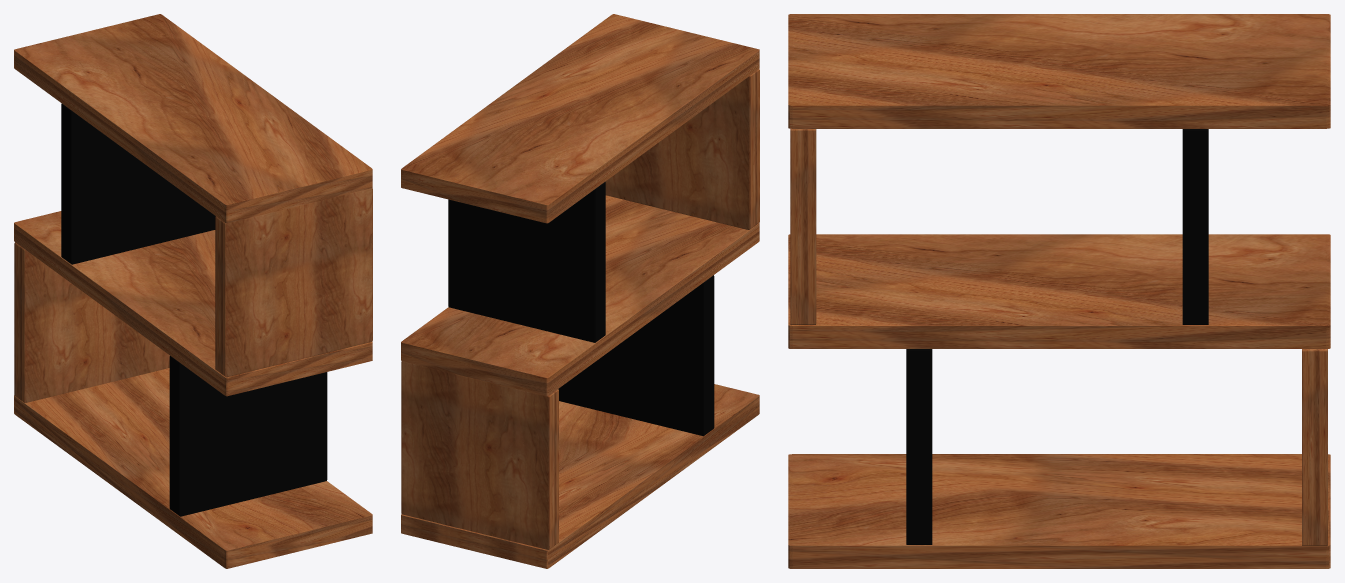
File: tableShelf.glb
The picture shows the model from 3 angles, left to right: view 1: azimuth 30°, elevation 25°; view 2: azimuth 150°, elevation 25°; view 3: azimuth 270°, elevation 25°; orthographic projection. The views are drawn at different scales.
Parts seen in each view (by area): view 1: Cube.006, Cube.001, Cube, Cube.003, Cube.005, Cube.004, Cube.002; view 2: Cube.006, Cube.004, Cube.005, Cube.002, Cube, Cube.003, Cube.001; view 3: Cube.006, Cube.005, Cube, Cube.001, Cube.003, Cube.002, Cube.004.
Boxes of the visible parts, <box> form: Cube.006: <box>14,14,372,223</box>; Cube.001: <box>215,188,372,377</box>; Cube: <box>14,368,372,568</box>; Cube.003: <box>169,356,327,516</box>; Cube.005: <box>14,211,372,396</box>; Cube.004: <box>14,242,169,402</box>; Cube.002: <box>61,103,215,264</box>; Cube.006: <box>401,14,759,223</box>; Cube.004: <box>401,361,558,549</box>; Cube.005: <box>401,195,759,396</box>; Cube.002: <box>448,182,605,342</box>; Cube: <box>401,384,759,568</box>; Cube.003: <box>558,275,714,436</box>; Cube.001: <box>605,69,759,229</box>; Cube.006: <box>788,14,1330,128</box>; Cube.005: <box>788,234,1330,348</box>; Cube: <box>788,454,1330,568</box>; Cube.001: <box>790,128,816,324</box>; Cube.003: <box>906,349,932,544</box>; Cube.002: <box>1182,129,1208,324</box>; Cube.004: <box>1302,349,1327,545</box>.
Size of the model in its own units: 2 by 4.72 by 5.
Materials: 2 (1 with a texture image).
